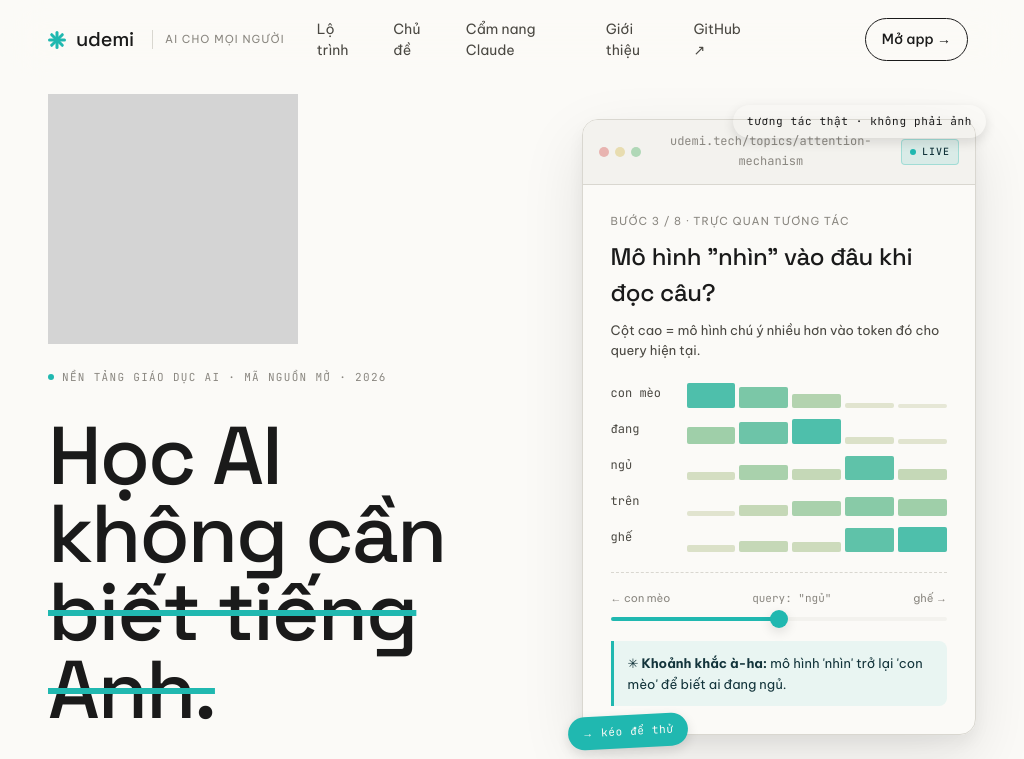
Scenario: Landing page › attention demo exposes a range slider that updates the query label
Moving to 0 → query token should be "con mèo".
Set the slider labelled "← con mèo query: \"ngủ\" ghế →" to "0" at (779, 597), box [611,572,947,621]
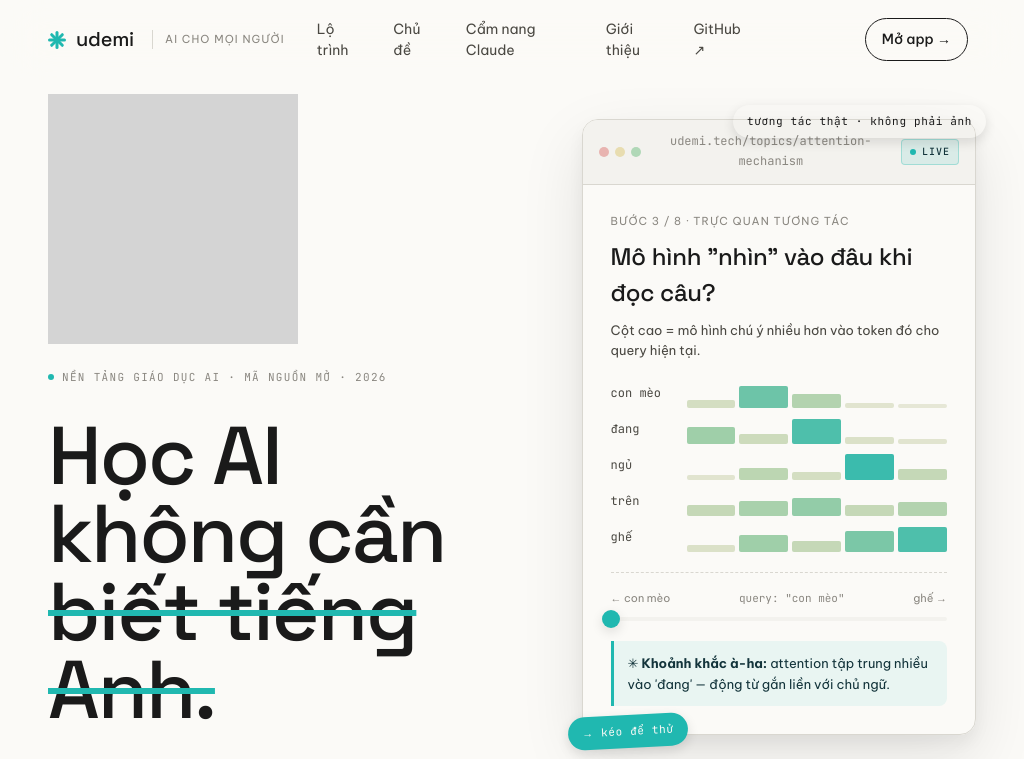
expect the text "query: \"con mèo\"" is shown: met, box [739,589,845,607]
expect the text with test id "ld-demo-query-label" shows "con mèo": met, box [792,591,838,605]
Moving to 4 → query token should be "ghế".
Set the slider labelled "← con mèo query: \"con mèo\" ghế →" to "4" at (779, 597), box [611,572,947,621]
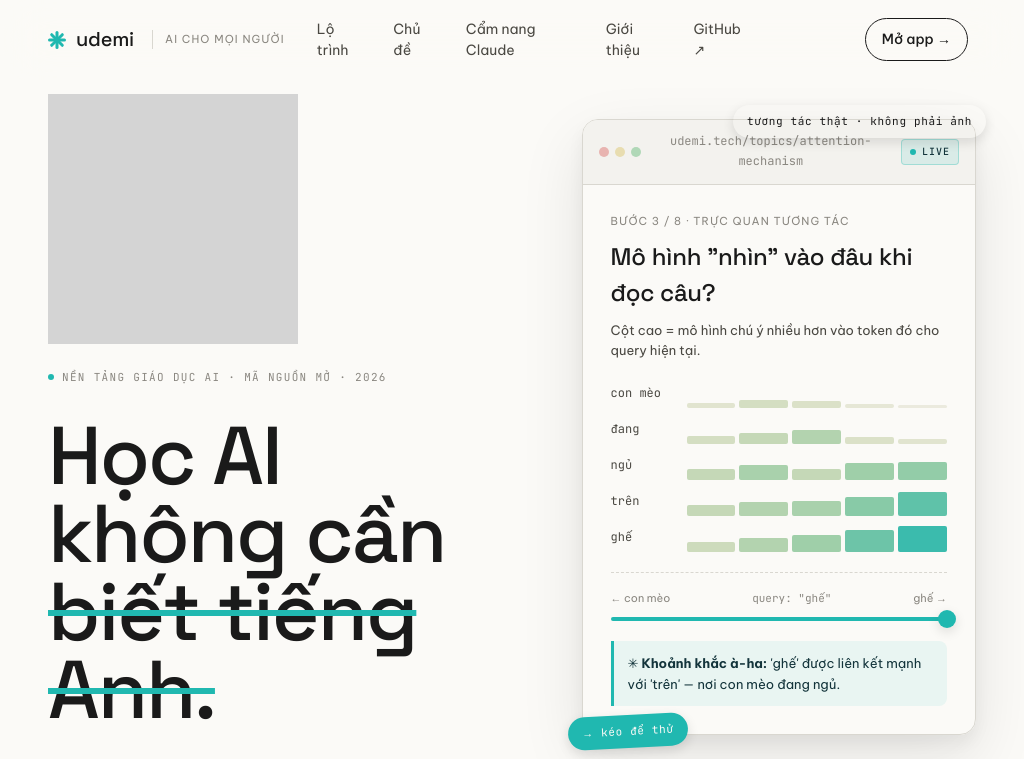
expect the text with test id "ld-demo-query-label" shows "ghế": met, box [805,591,825,605]
